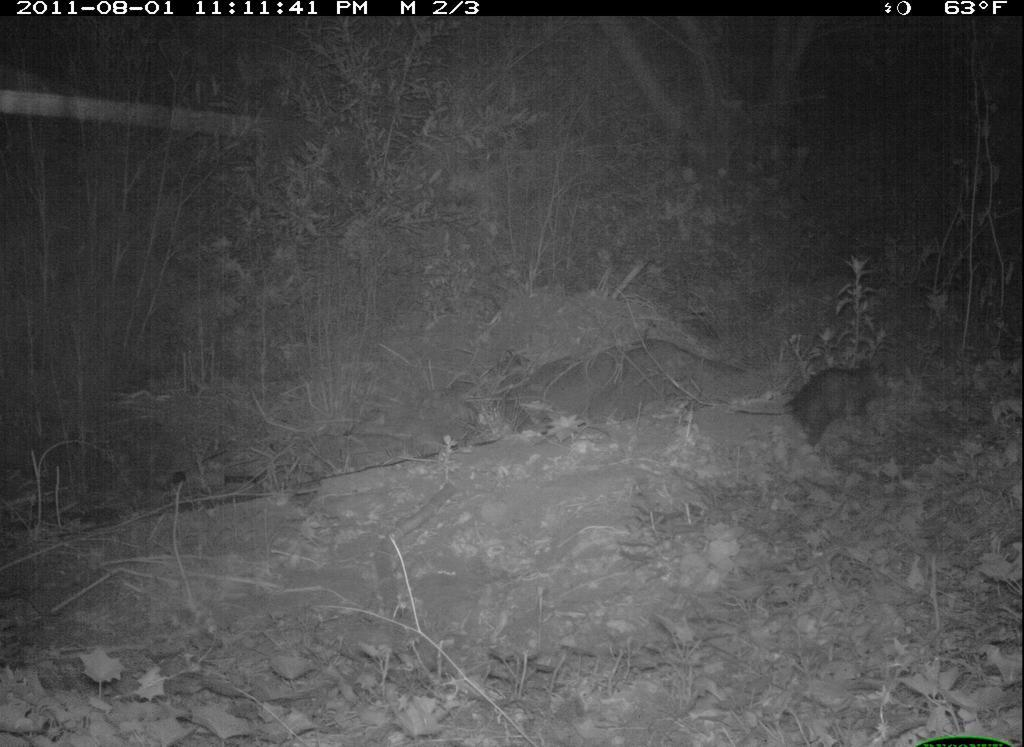opossum: (736, 356, 893, 447)
